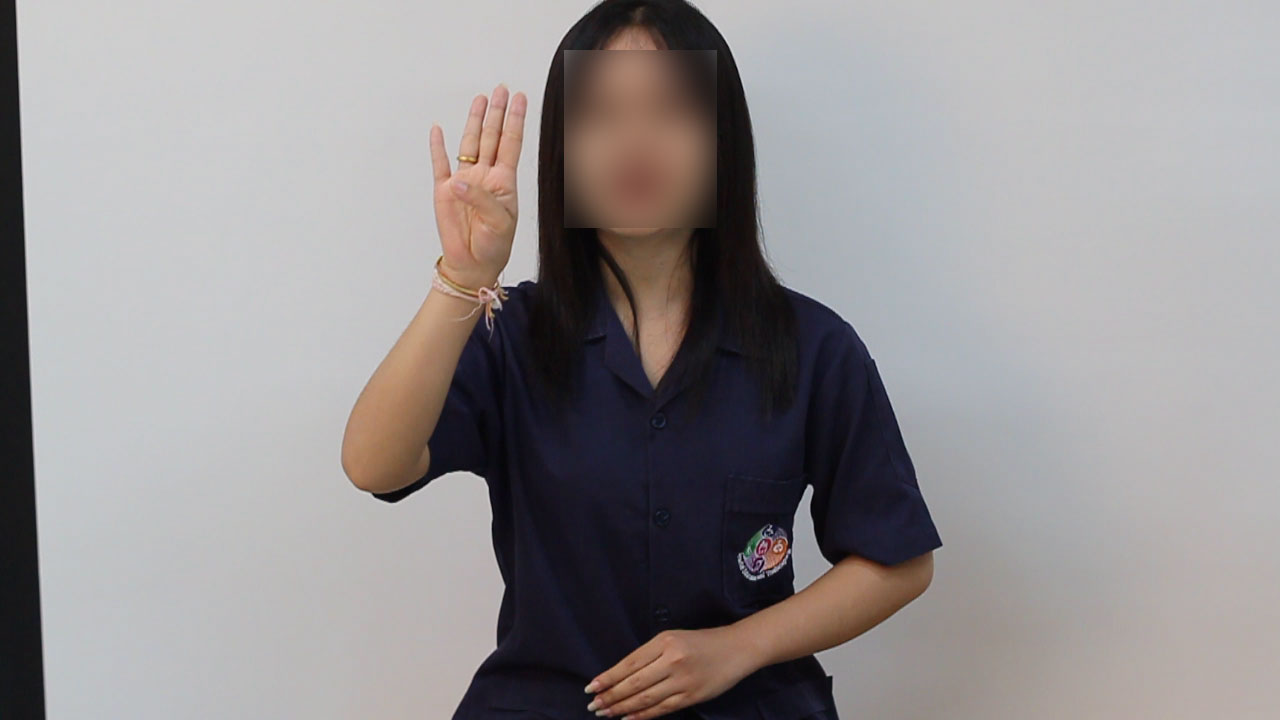bor: (414, 73, 536, 310)
